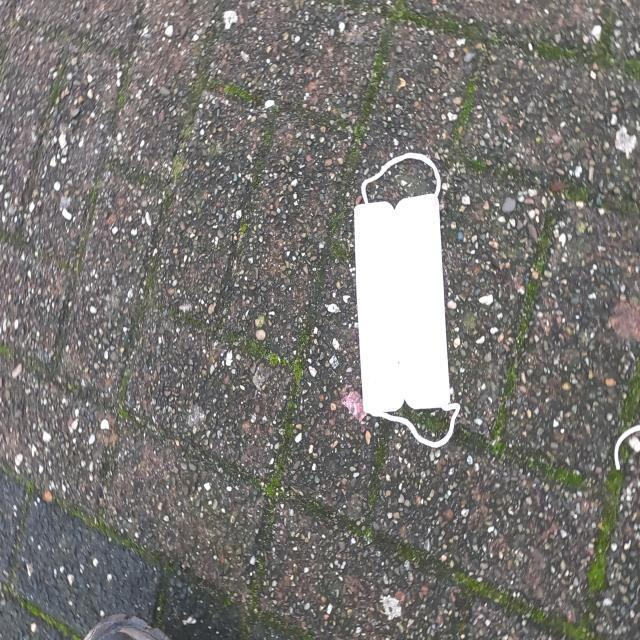Mask: (350, 149, 462, 453)
